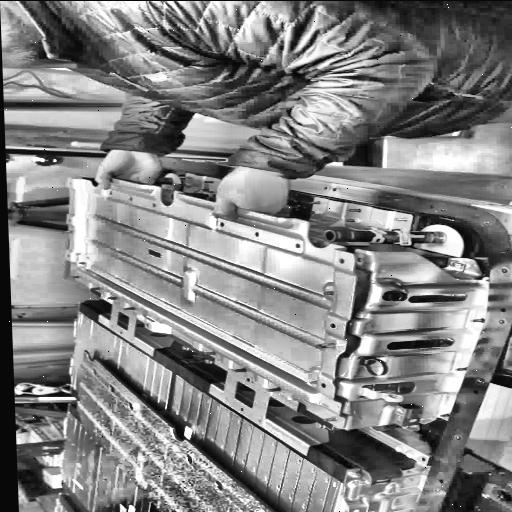battery_module: (71, 175, 376, 430)
